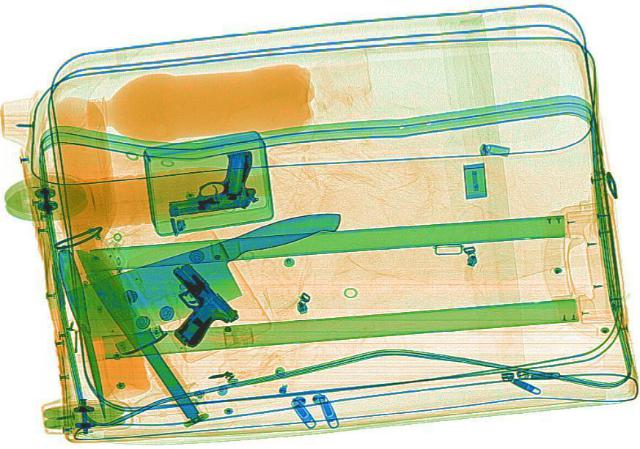Gun: (122, 259, 252, 349), (151, 150, 267, 216)
Knife: (55, 204, 372, 341), (64, 243, 206, 416), (52, 247, 112, 418)
